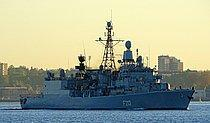MIL_Ship: (17, 18, 197, 112)
